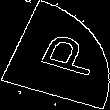P_W: (17, 28, 93, 82)
